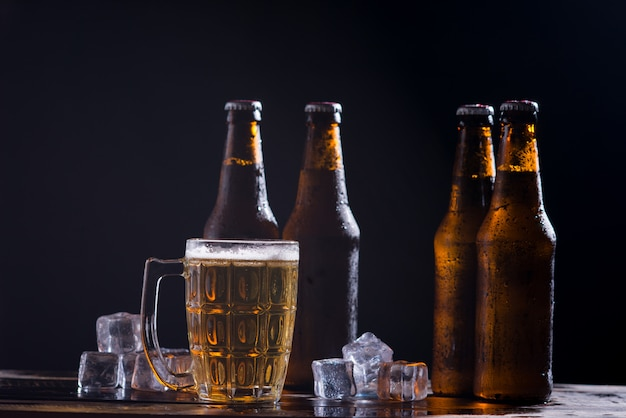alcohol: (143, 240, 300, 413), (195, 103, 284, 403), (475, 100, 558, 410), (433, 106, 514, 409), (284, 102, 365, 394)
